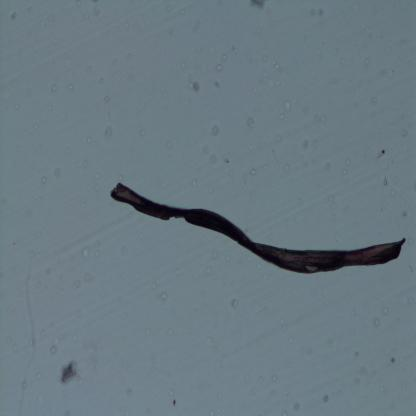Background material: (60, 358, 82, 386), (255, 69, 274, 95), (82, 241, 100, 262), (296, 136, 318, 152), (305, 4, 327, 19), (310, 107, 328, 125), (324, 191, 338, 210), (269, 57, 282, 72), (56, 329, 70, 342), (318, 390, 330, 404), (343, 159, 352, 177), (251, 0, 267, 10), (71, 276, 81, 292), (346, 304, 357, 318), (169, 386, 176, 407), (376, 147, 388, 159), (6, 337, 17, 350), (4, 9, 17, 20), (280, 97, 290, 111), (104, 125, 113, 140), (83, 272, 94, 284), (26, 336, 37, 348), (188, 82, 201, 92), (380, 303, 390, 315), (383, 175, 391, 189), (48, 345, 58, 355), (247, 118, 255, 130), (53, 164, 60, 177), (202, 142, 209, 155), (214, 63, 224, 72), (50, 82, 59, 92), (323, 162, 332, 172), (210, 249, 218, 260), (281, 163, 292, 171), (373, 316, 380, 328), (92, 3, 98, 17), (160, 292, 169, 301), (81, 159, 90, 168), (204, 266, 213, 275), (208, 155, 217, 164), (212, 125, 219, 136), (353, 374, 360, 385), (279, 109, 285, 121), (352, 348, 360, 357), (180, 60, 187, 70), (275, 134, 282, 144), (256, 374, 263, 384), (390, 189, 396, 200), (92, 172, 100, 180), (406, 296, 414, 304), (293, 402, 301, 410), (137, 126, 144, 135), (249, 386, 258, 393), (215, 80, 221, 90), (86, 64, 92, 74), (278, 410, 288, 416), (20, 380, 26, 390), (232, 300, 239, 308), (64, 408, 71, 416), (86, 136, 92, 145), (192, 179, 198, 188), (69, 83, 75, 92), (402, 211, 408, 219), (125, 388, 131, 396), (223, 54, 228, 63), (40, 178, 47, 184), (270, 375, 276, 382), (104, 94, 109, 102), (129, 73, 133, 83), (390, 356, 395, 364), (252, 168, 257, 176), (118, 174, 123, 182), (140, 234, 146, 240), (145, 329, 150, 336), (166, 6, 170, 14), (50, 14, 54, 22), (233, 45, 237, 53), (402, 132, 408, 137), (263, 165, 268, 170), (208, 188, 213, 193), (380, 386, 384, 392), (223, 159, 229, 163), (76, 161, 80, 167), (68, 148, 70, 156)
Cotton: (110, 181, 407, 274)
